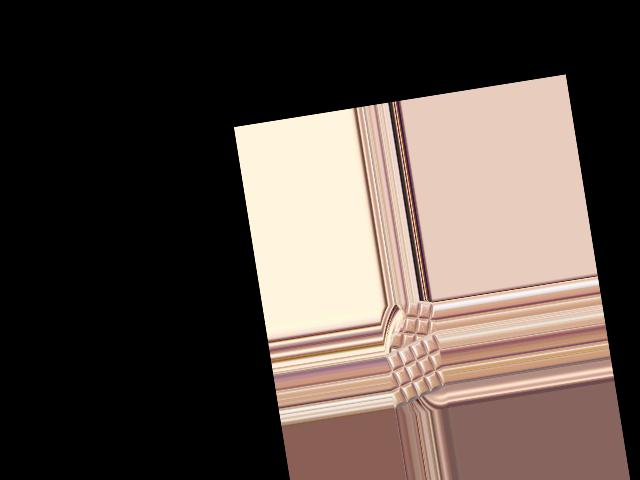chocolate: (383, 330, 449, 410)
